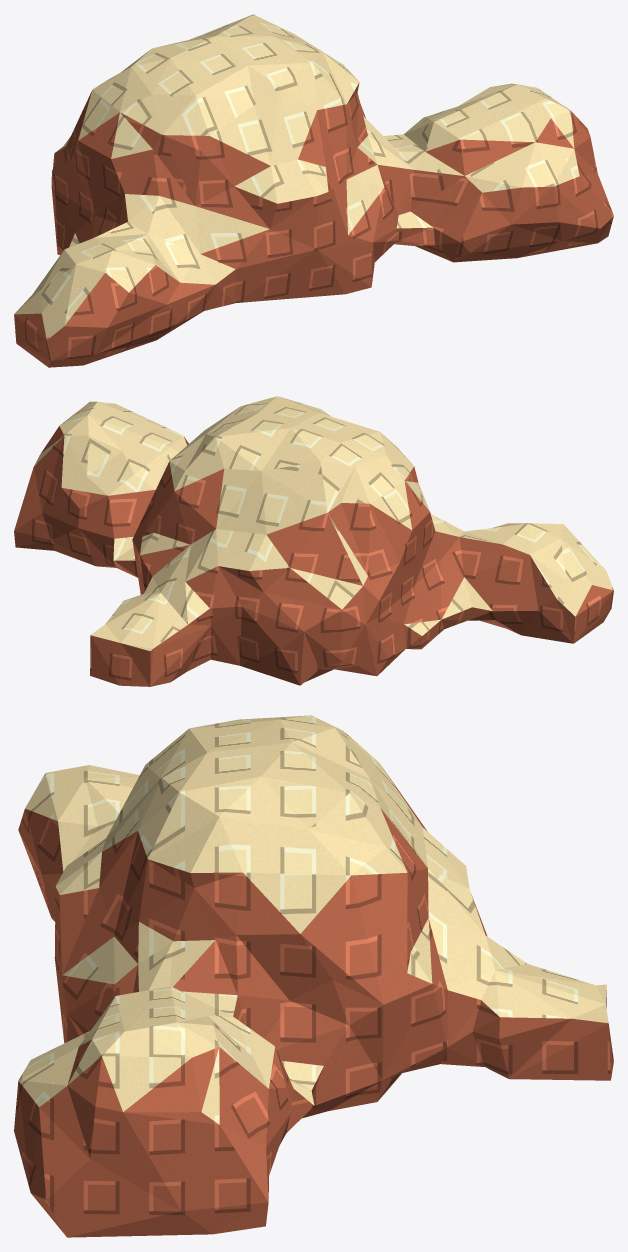
Rendered from DesertBeachBoulders.glb.
The picture shows the model from 3 angles, top to bottom: view 1: azimuth 30°, elevation 25°; view 2: azimuth 150°, elevation 25°; view 3: azimuth 270°, elevation 25°; orthographic projection. The views are drawn at different scales.
Visible parts, largest first — view 1: DesertBeachBoulders_Rock, DesertBeachBoulders_Top; view 2: DesertBeachBoulders_Rock, DesertBeachBoulders_Top; view 3: DesertBeachBoulders_Rock, DesertBeachBoulders_Top.
Part boxes in pixels (x1=…): DesertBeachBoulders_Rock: x1=14, y1=82, x2=613, y2=367; DesertBeachBoulders_Top: x1=14, y1=14, x2=579, y2=339; DesertBeachBoulders_Rock: x1=14, y1=426, x2=613, y2=686; DesertBeachBoulders_Top: x1=34, y1=396, x2=613, y2=650; DesertBeachBoulders_Rock: x1=14, y1=767, x2=613, y2=1237; DesertBeachBoulders_Top: x1=18, y1=715, x2=608, y2=1124.
Size of the model in its own units: 13.56 by 5.07 by 9.16.
2 materials, 2 textured.
